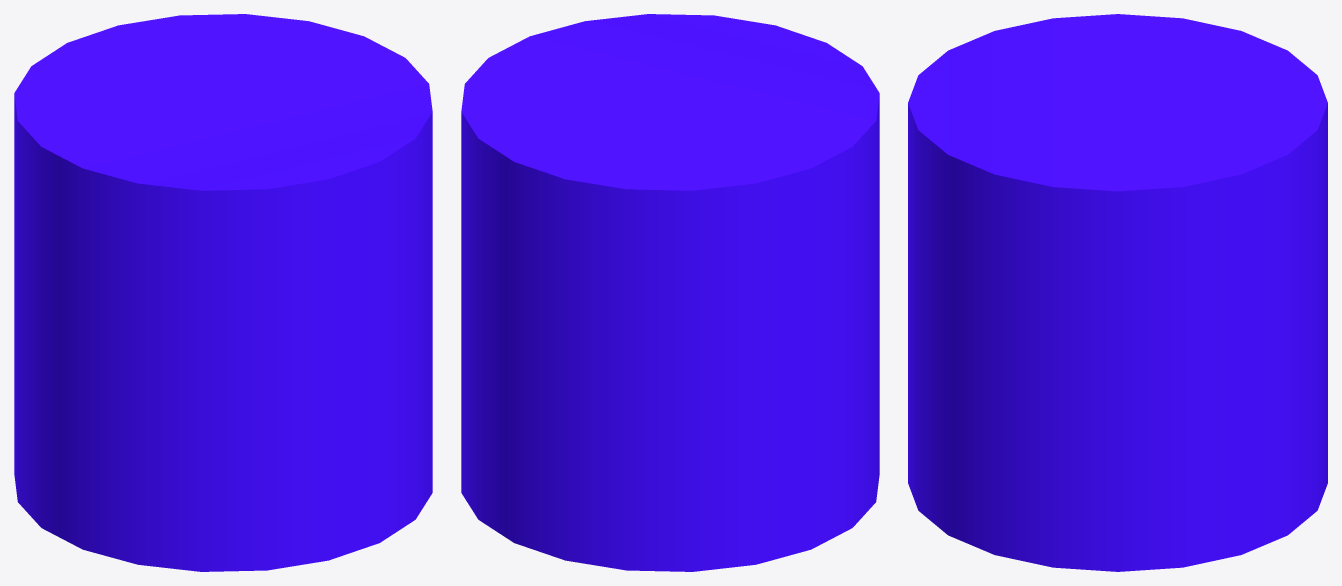
Rendered from 147896d8-4ab0-4ecd-bee2-9ed024710abb.glb.
3 renders of one model, left to right at view 1: azimuth 30°, elevation 25°; view 2: azimuth 150°, elevation 25°; view 3: azimuth 270°, elevation 25°, orthographic.
Visible parts, largest first — view 1: BaseCylinder.006; view 2: BaseCylinder.006; view 3: BaseCylinder.006.
Part boxes in pixels (x1=…): BaseCylinder.006: x1=14, y1=14, x2=432, y2=571; BaseCylinder.006: x1=461, y1=14, x2=879, y2=571; BaseCylinder.006: x1=908, y1=14, x2=1327, y2=571.
Size of what is drawn, in the model's own units: 0.7489 by 0.7489 by 0.7489.
1 material, 1 textured.
